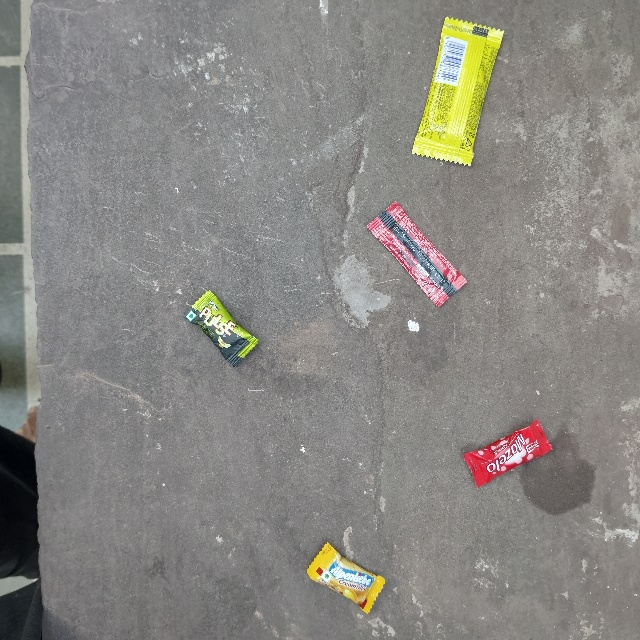Alpenlibe Creamfills: (321, 530, 414, 586)
Mazelo: (460, 445, 552, 491)
Nescafe Coffee: (407, 197, 507, 245)
Orbit: (446, 14, 516, 160)
Pulse: (179, 323, 227, 401)
